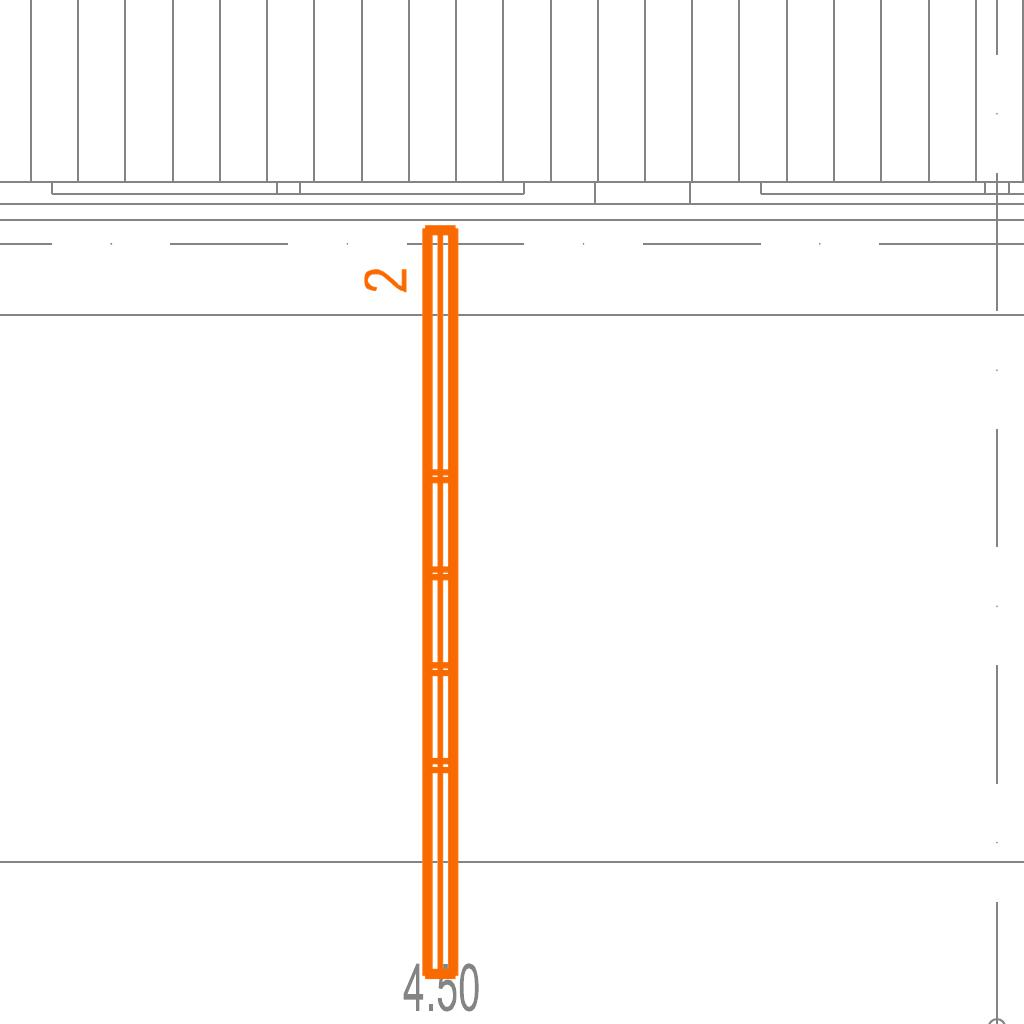Ambulanz_Pendelleuchte_LED: (359, 216, 471, 990)
